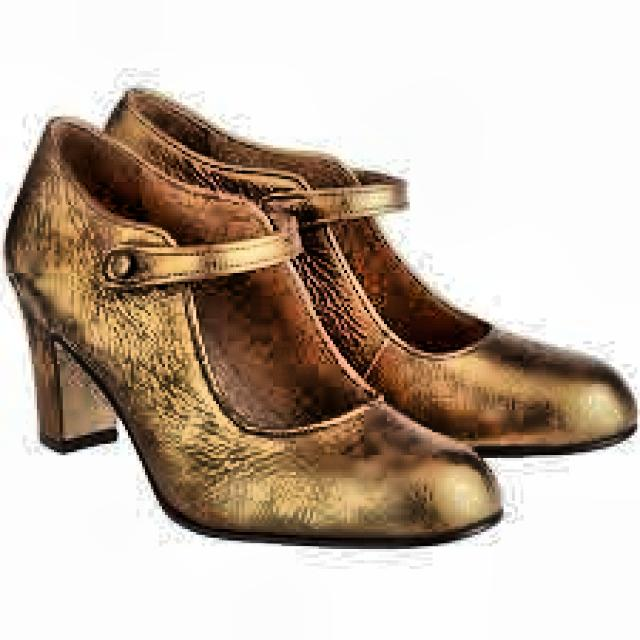shoes: (6, 82, 638, 546)
